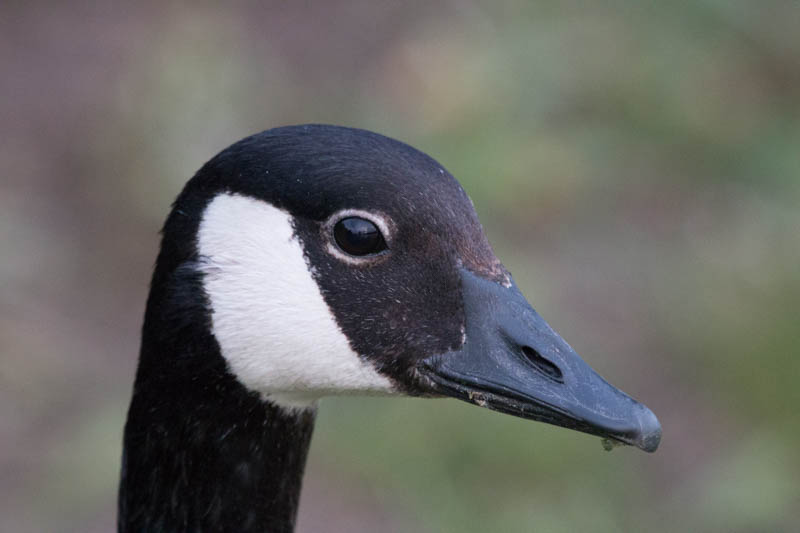goose-head: (143, 125, 664, 453)
